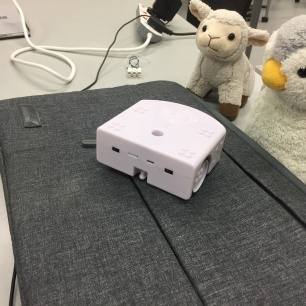thymio: (88, 94, 235, 202)
